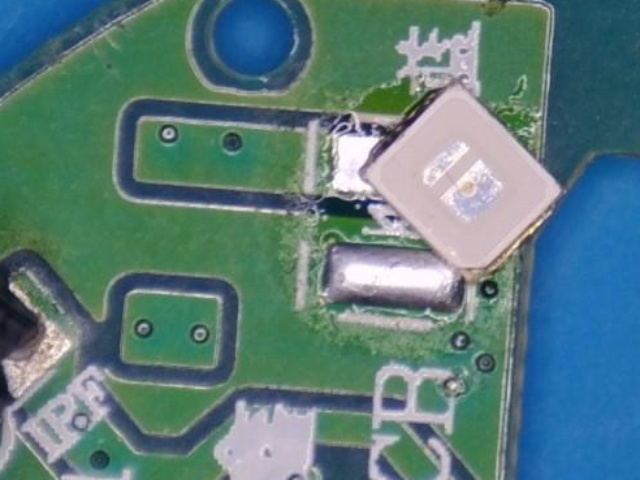pcb_defect: (325, 77, 567, 311)
